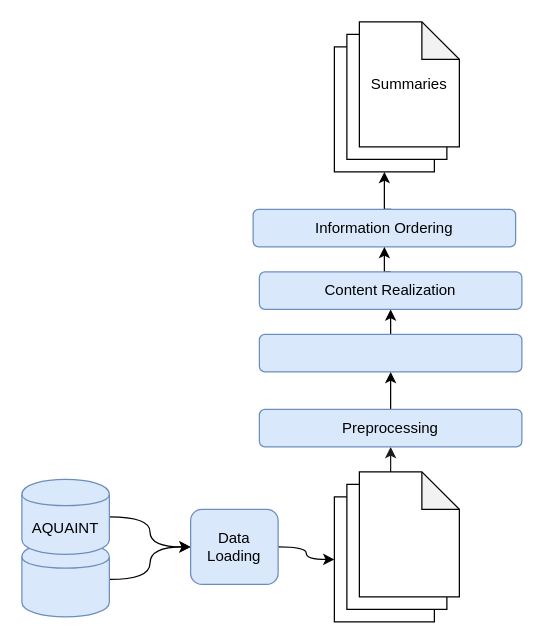
The diagram is 544 pixels wide and 644 high, and some of its shapes have lost their labels. The centre of each missing label's shape, as x and y in pixels:
AQUAINT-2: the point at 65,579
Content Selection: the point at 390,352
Structured Data (Pickle Files): the point at 408,534
